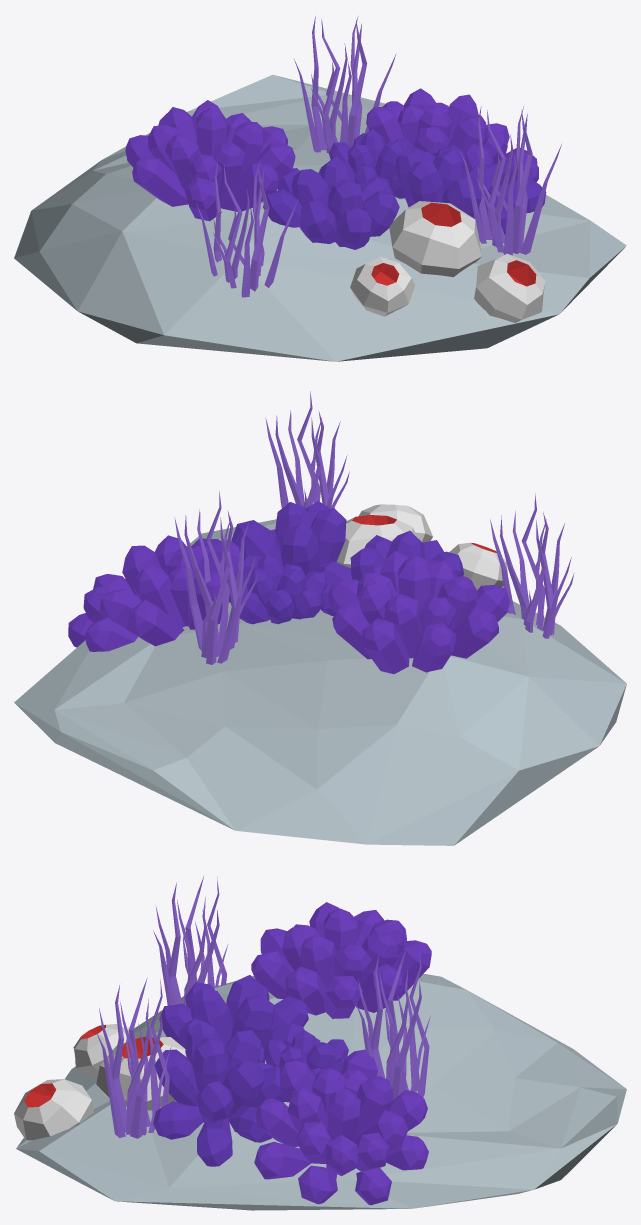
File: MiniCoral-3.glb
The picture shows the model from 3 angles, top to bottom: view 1: azimuth 30°, elevation 25°; view 2: azimuth 150°, elevation 25°; view 3: azimuth 270°, elevation 25°; orthographic projection. The views are drawn at different scales.
Visible parts, largest first — view 1: Coralls_015; view 2: Coralls_015; view 3: Coralls_015.
Boxes of the visible parts, <box> form: Coralls_015: <box>14,16,626,361</box>; Coralls_015: <box>14,391,626,845</box>; Coralls_015: <box>14,876,626,1210</box>.
Size of the model in its own units: 1.94 by 0.9663 by 2.14.
2 materials, 2 textured.
